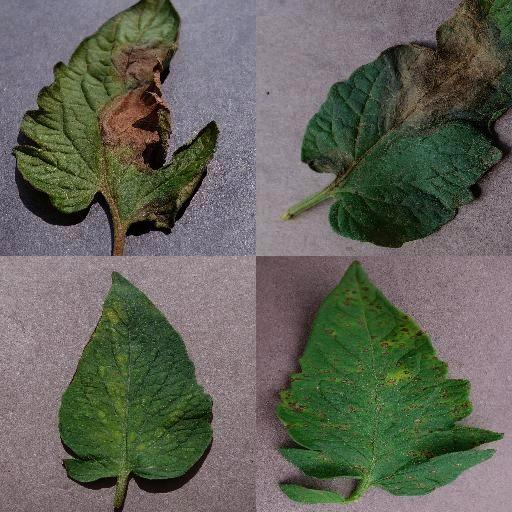Late Blight: (302, 0, 512, 248), (10, 0, 220, 230)
Septoria: (276, 259, 504, 495)
Spider Mites: (59, 270, 213, 482)
